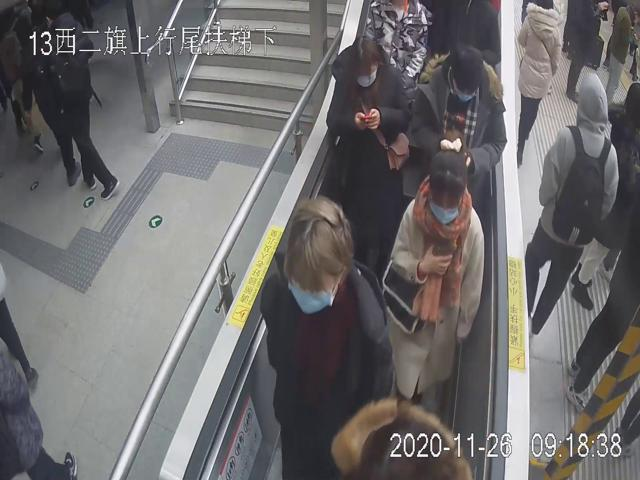person: (260, 195, 392, 480), (380, 135, 483, 417), (523, 61, 621, 338), (324, 31, 410, 261), (403, 40, 510, 218)
